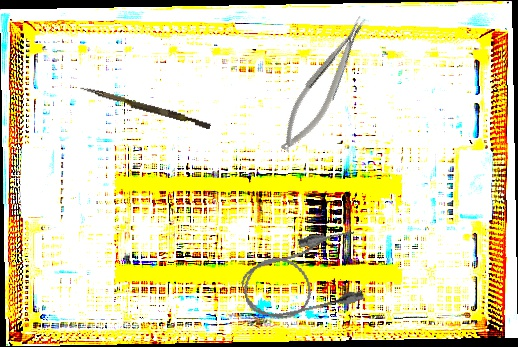Cannula: (234, 224, 372, 330)
Needle Holder: (269, 10, 381, 159)
Pusher: (78, 85, 212, 130)
